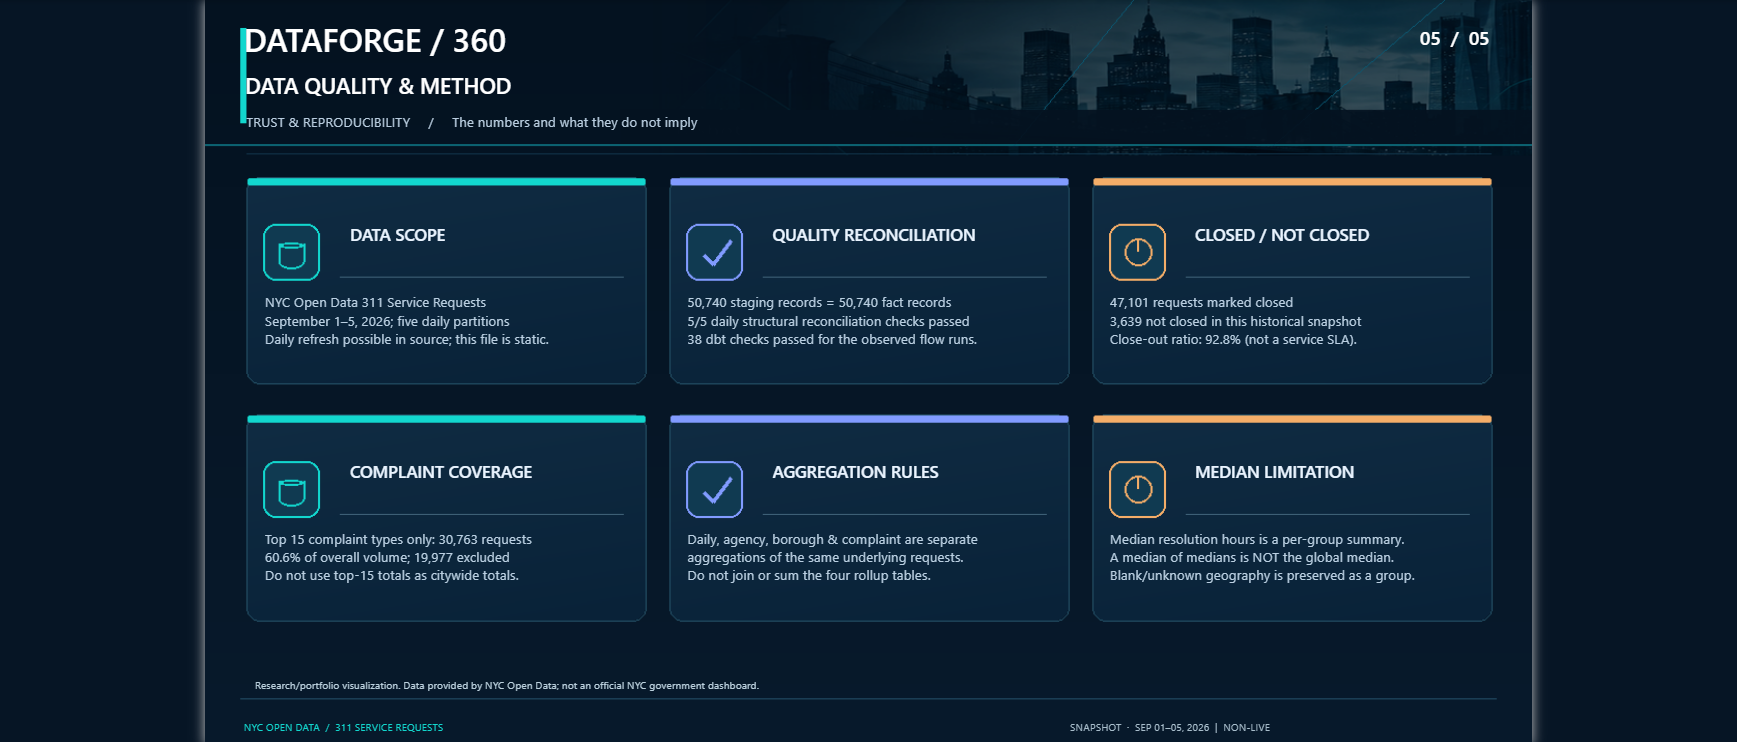

The page's visual inventory and layout, read from the dashboard file:
{"tool":"powerbi","page":{"name":"Data Quality & Method","canvas":[1280,720],"ordinal":4},"visuals":[{"type":"textbox","box":[37,17,700,45],"z":5},{"type":"textbox","box":[39,69,960,32],"z":6},{"type":"textbox","box":[40,108,1040,25],"z":7},{"type":"textbox","box":[1160,24,91,29],"z":8},{"type":"textbox","box":[37,691,570,23],"z":9},{"type":"textbox","box":[835,691,403,23],"z":10},{"type":"textbox","box":[140,215,265,38],"z":60},{"type":"textbox","box":[548,215,265,38],"z":61},{"type":"textbox","box":[956,215,265,38],"z":62},{"type":"textbox","box":[140,444,265,38],"z":63},{"type":"textbox","box":[548,444,265,38],"z":64},{"type":"textbox","box":[956,444,265,38],"z":65},{"type":"textbox","box":[58,282,348,78],"z":80},{"type":"textbox","box":[466,282,348,78],"z":81},{"type":"textbox","box":[874,282,348,78],"z":82},{"type":"textbox","box":[58,510,348,78],"z":83},{"type":"textbox","box":[466,510,348,78],"z":84},{"type":"textbox","box":[874,510,348,78],"z":85},{"type":"textbox","box":[48,650,1175,26],"z":110}]}

Visuals, with their boxes on the page's 1280x720 design canvas (x1, y1, x2, y2). These are canvas units, not pixel positions in the 1737x742 screenshot, which may show the page scaled, cropped or inside an application window:
textbox: crop(37, 17, 737, 62)
textbox: crop(39, 69, 999, 101)
textbox: crop(40, 108, 1080, 133)
textbox: crop(1160, 24, 1251, 53)
textbox: crop(37, 691, 607, 714)
textbox: crop(835, 691, 1238, 714)
textbox: crop(140, 215, 405, 253)
textbox: crop(548, 215, 813, 253)
textbox: crop(956, 215, 1221, 253)
textbox: crop(140, 444, 405, 482)
textbox: crop(548, 444, 813, 482)
textbox: crop(956, 444, 1221, 482)
textbox: crop(58, 282, 406, 360)
textbox: crop(466, 282, 814, 360)
textbox: crop(874, 282, 1222, 360)
textbox: crop(58, 510, 406, 588)
textbox: crop(466, 510, 814, 588)
textbox: crop(874, 510, 1222, 588)
textbox: crop(48, 650, 1223, 676)
